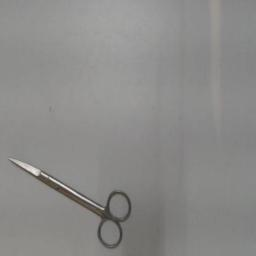Curved Mayo Scissors: (4, 154, 136, 252)
